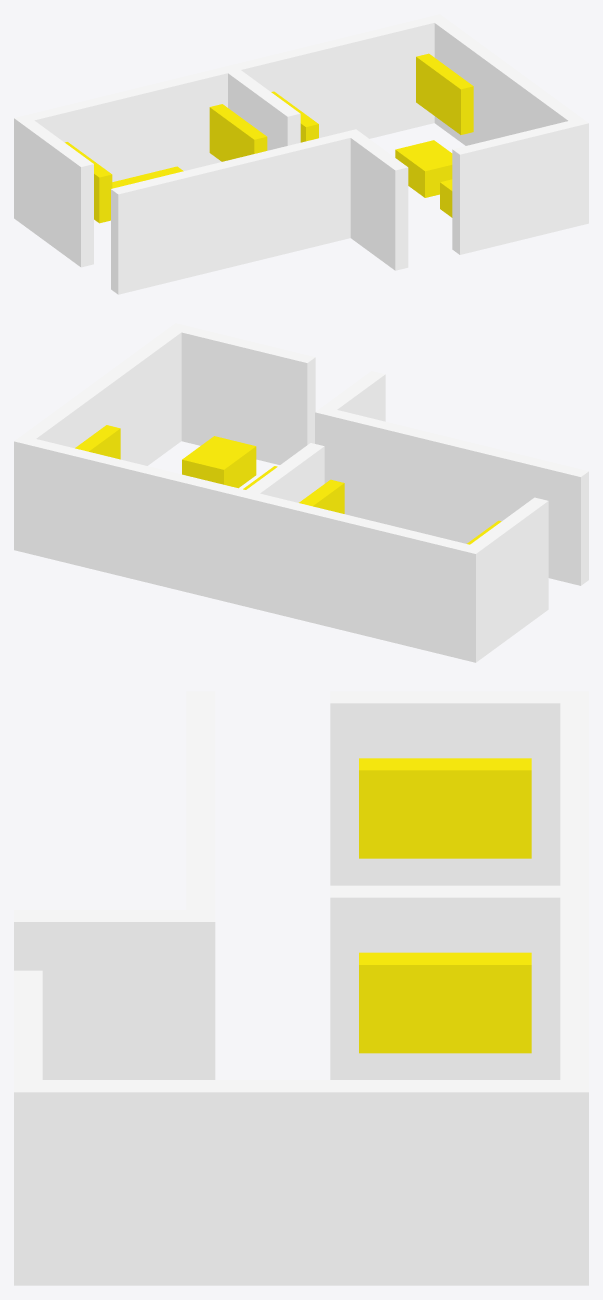
The picture shows the model from 3 angles, top to bottom: view 1: azimuth 30°, elevation 25°; view 2: azimuth 150°, elevation 25°; view 3: azimuth 270°, elevation 25°; orthographic projection. The views are drawn at different scales.
Visible parts, largest first — view 1: largewall, largewall001, largewall003, largewall005, largewall007, largewall006, largewall004, largewall010, largewall002; view 2: largewall, largewall001, largewall002, largewall005, largewall003; view 3: largewall, largewall001, largewall004, largewall006.
Boxes of the visible parts, x1,y1,x2,y2 form: largewall: [14, 14, 588, 267]; largewall001: [111, 129, 408, 294]; largewall003: [416, 53, 473, 134]; largewall005: [209, 104, 267, 161]; largewall007: [395, 140, 452, 197]; largewall006: [65, 142, 112, 223]; largewall004: [271, 91, 318, 142]; largewall010: [112, 166, 183, 188]; largewall002: [440, 179, 452, 217]; largewall: [14, 323, 548, 662]; largewall001: [315, 371, 588, 585]; largewall002: [182, 436, 256, 488]; largewall005: [299, 479, 344, 513]; largewall003: [75, 425, 120, 459]; largewall: [14, 691, 588, 1285]; largewall001: [14, 691, 215, 1079]; largewall004: [359, 952, 531, 1053]; largewall006: [359, 758, 531, 858].
Bounding box in the file's own units: 1 × 0.2261 × 0.6059.
